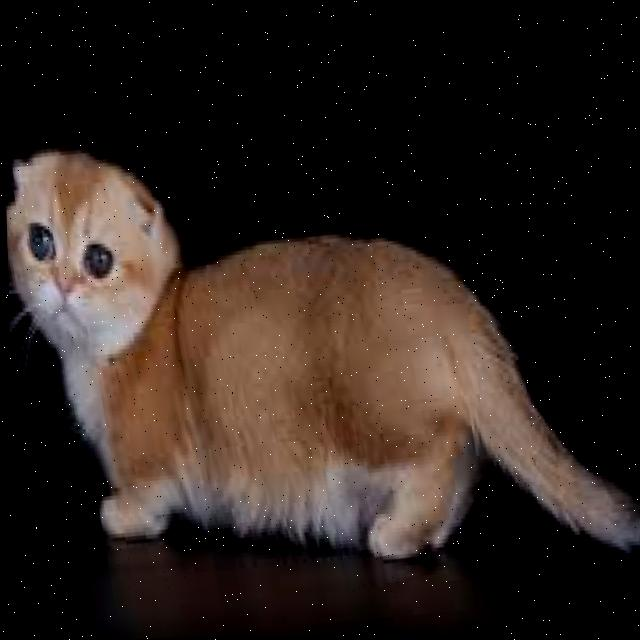Munchkin: (1, 60, 640, 635)
